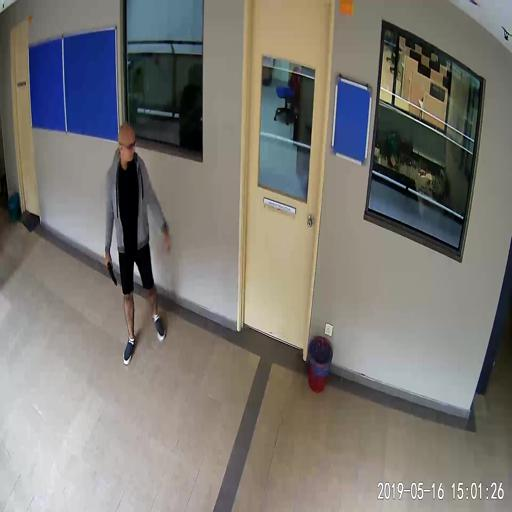pistol: (105, 256, 116, 285)
